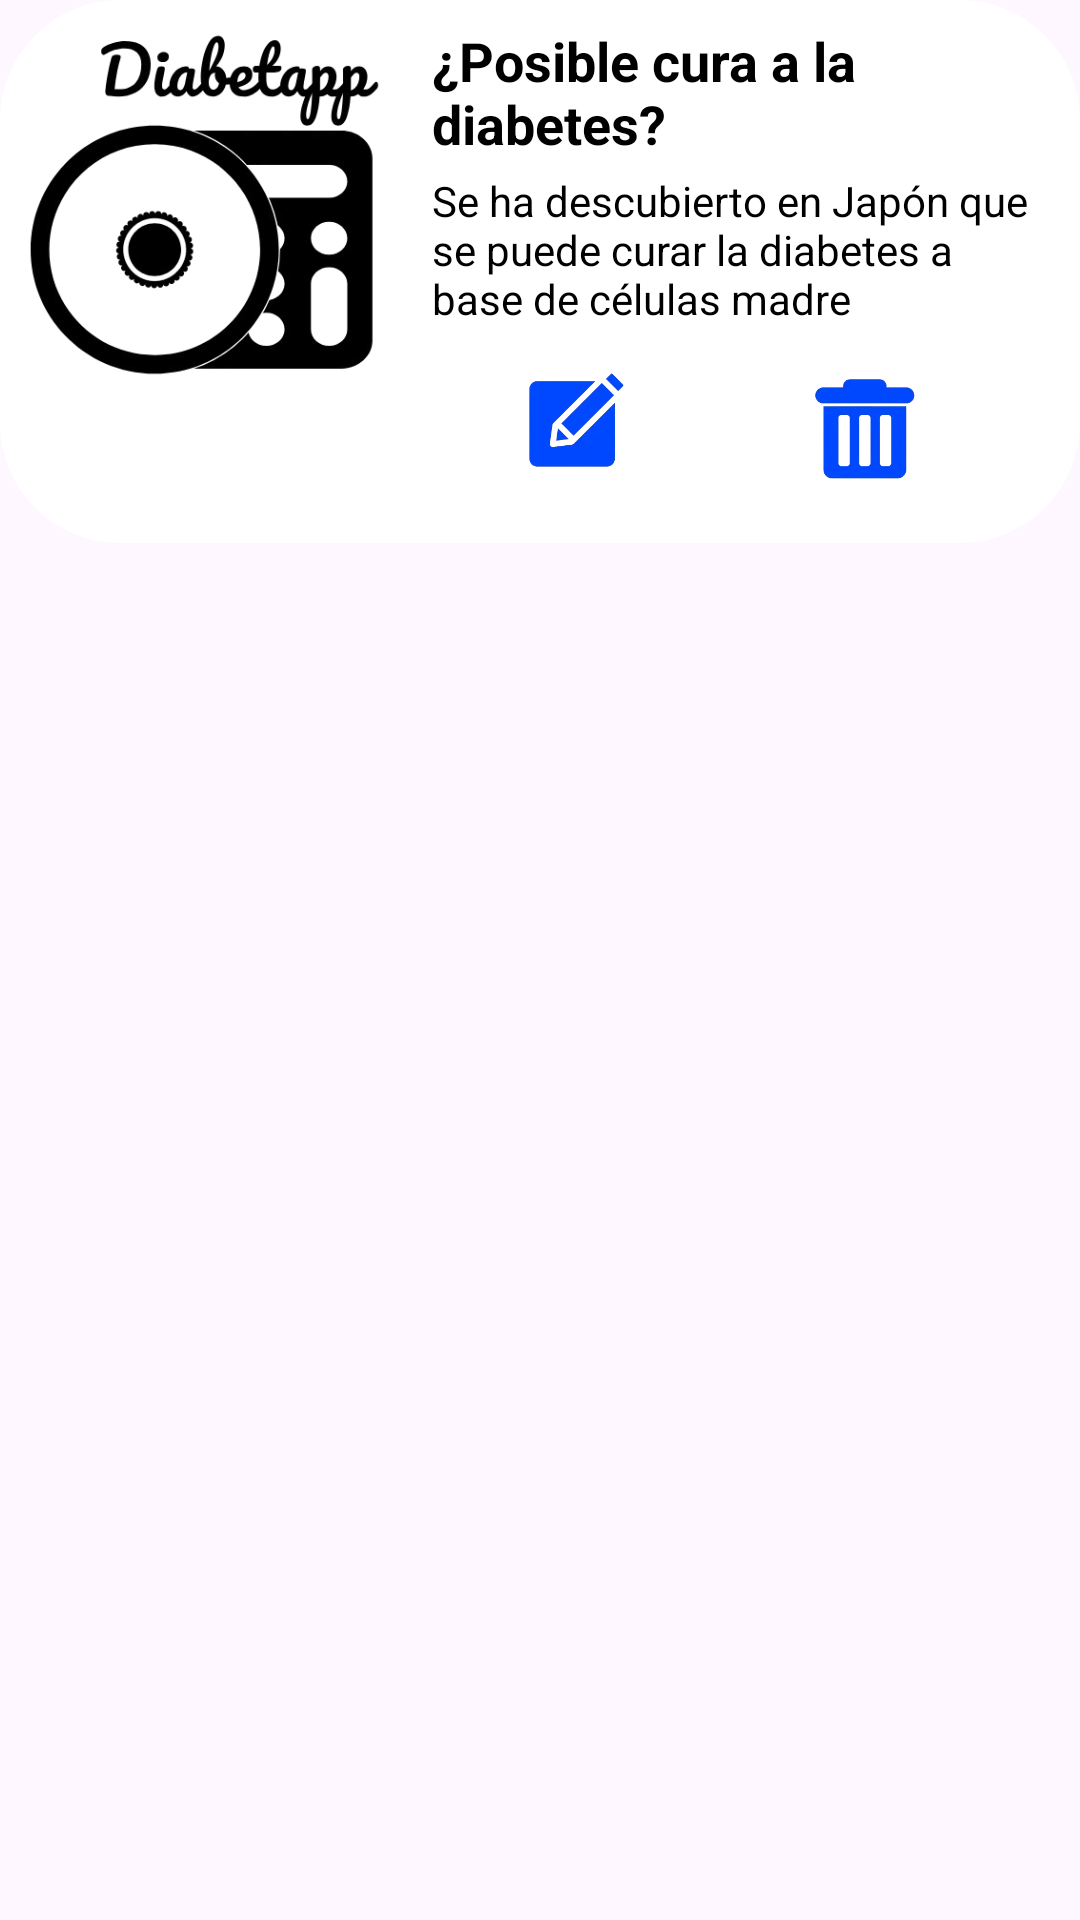

Screen size 1080 × 1920. Icon name, then its center in pixels as point (x, y):
borrar: point (865, 429)
editar: point (576, 420)
